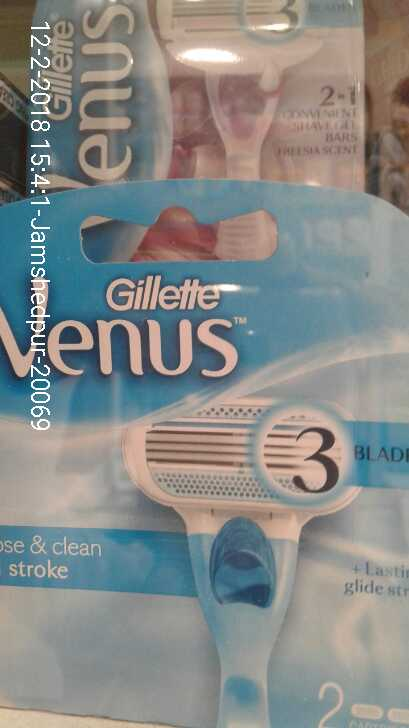venus: (1, 188, 407, 728)
